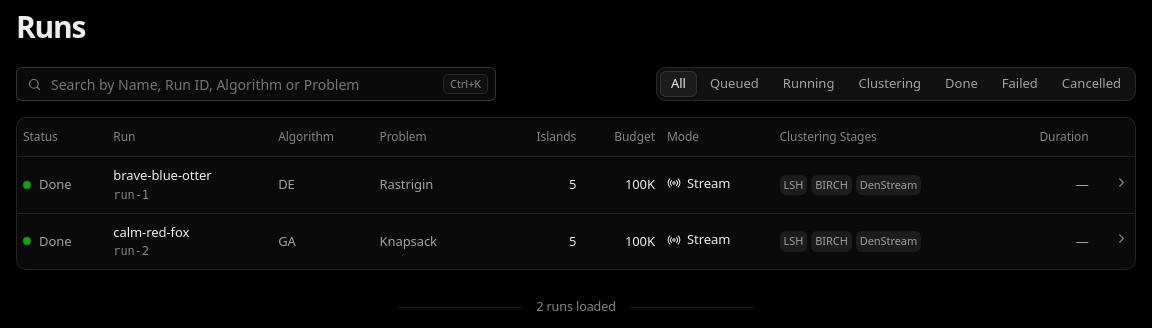
Test: RunsPage › searches loaded runs by name, id and preset, ignoring case
Type "OTTER" into the field with placeholder "Search by Name, Run ID, Algorithm or Problem" at coordinates (256, 84), box [16,67,496,101]
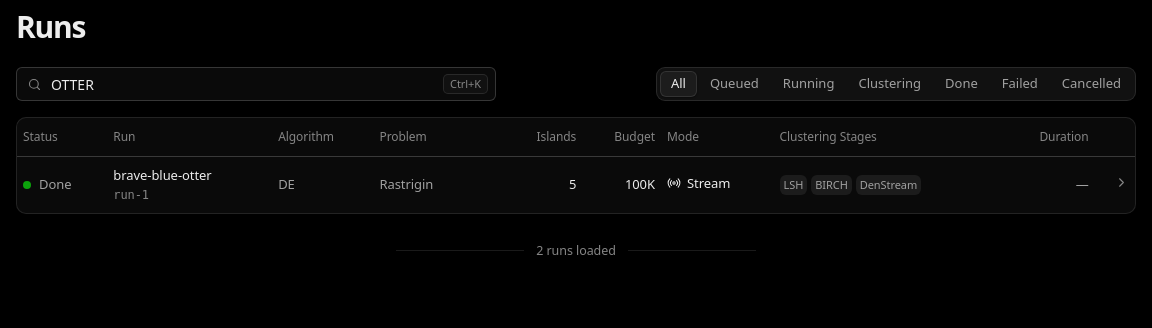
Replace the text in the field with placeholder "Search by Name, Run ID, Algorithm or Problem" with "run-2" at coordinates (256, 84), box [16,67,496,101]
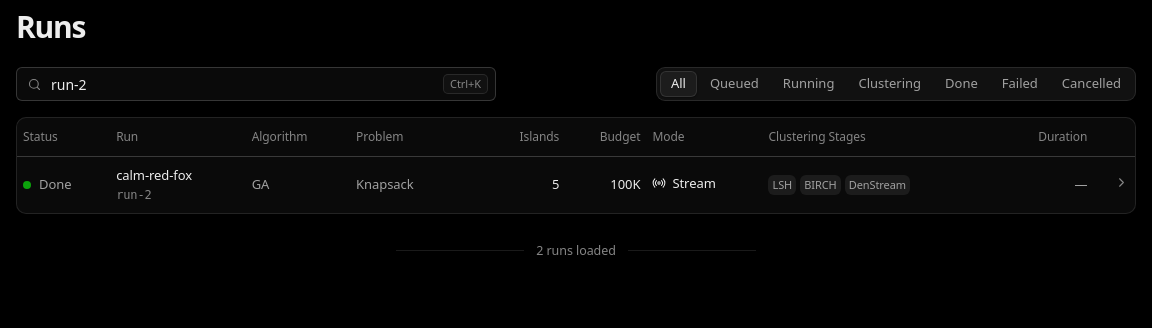
Replace the text in the field with placeholder "Search by Name, Run ID, Algorithm or Problem" with "knapsack" at coordinates (256, 84), box [16,67,496,101]
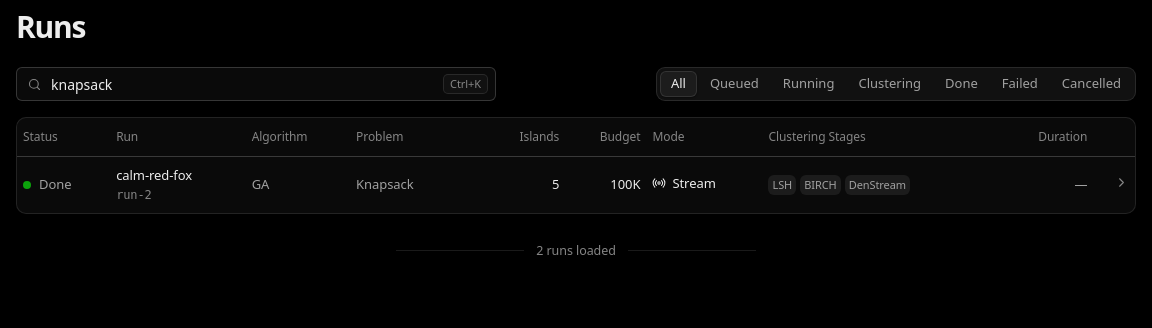
Replace the text in the field with placeholder "Search by Name, Run ID, Algorithm or Problem" with "nothing" at coordinates (256, 84), box [16,67,496,101]
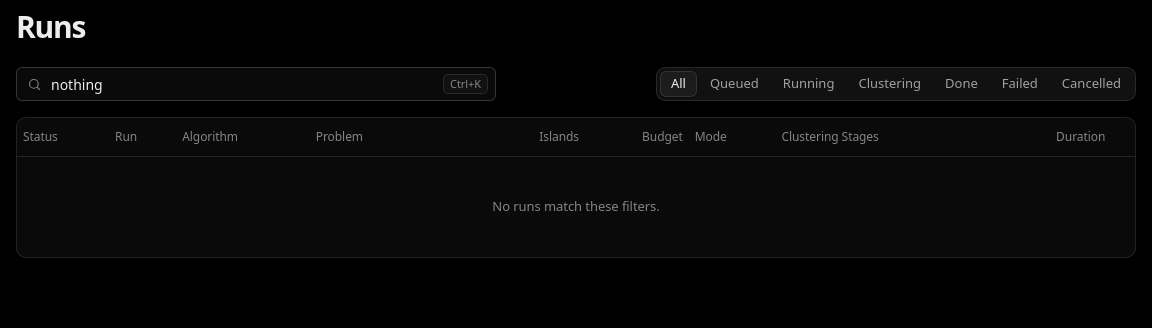
Expected: the text "No runs match these filters." is shown, [17,156,1135,256]
